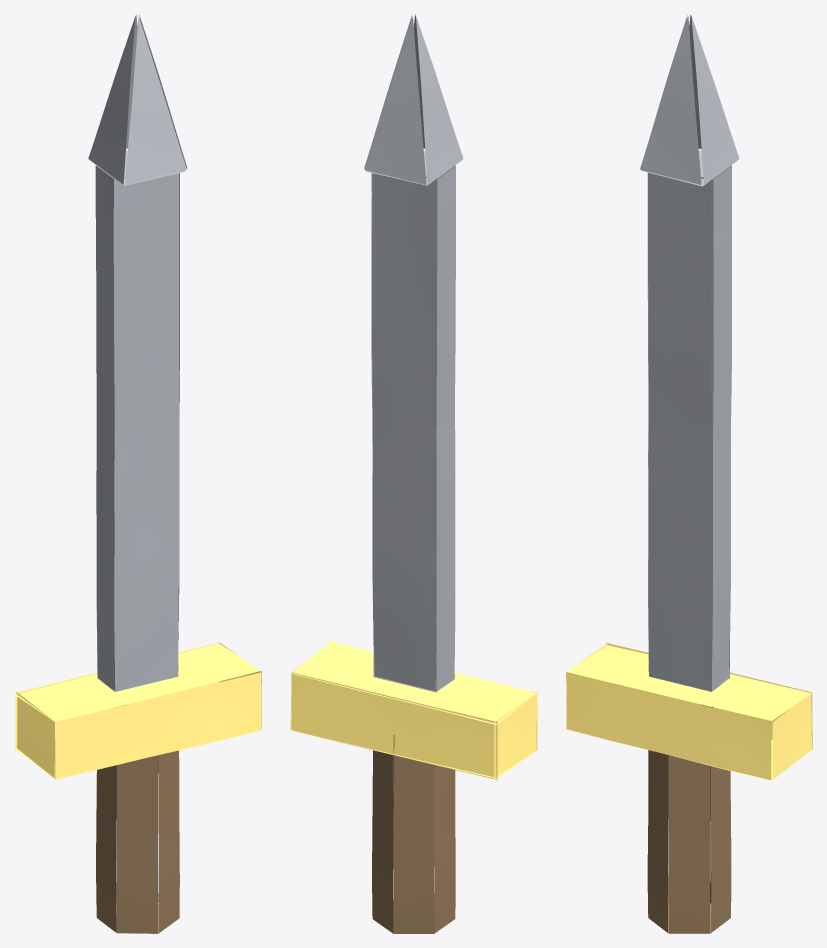
File: dagger.glb
3 renders of one model, left to right at view 1: azimuth 30°, elevation 25°; view 2: azimuth 150°, elevation 25°; view 3: azimuth 330°, elevation 25°, orthographic.
Visible parts, largest first — view 1: DaggerGrip; view 2: DaggerGrip; view 3: DaggerGrip.
Boxes of the visible parts, x1,y1,x2,y2 form: DaggerGrip: [14, 15, 261, 933]; DaggerGrip: [290, 14, 537, 933]; DaggerGrip: [566, 15, 812, 933].
Size of the model in its own units: 0.2613 by 1.09 by 0.0916.
